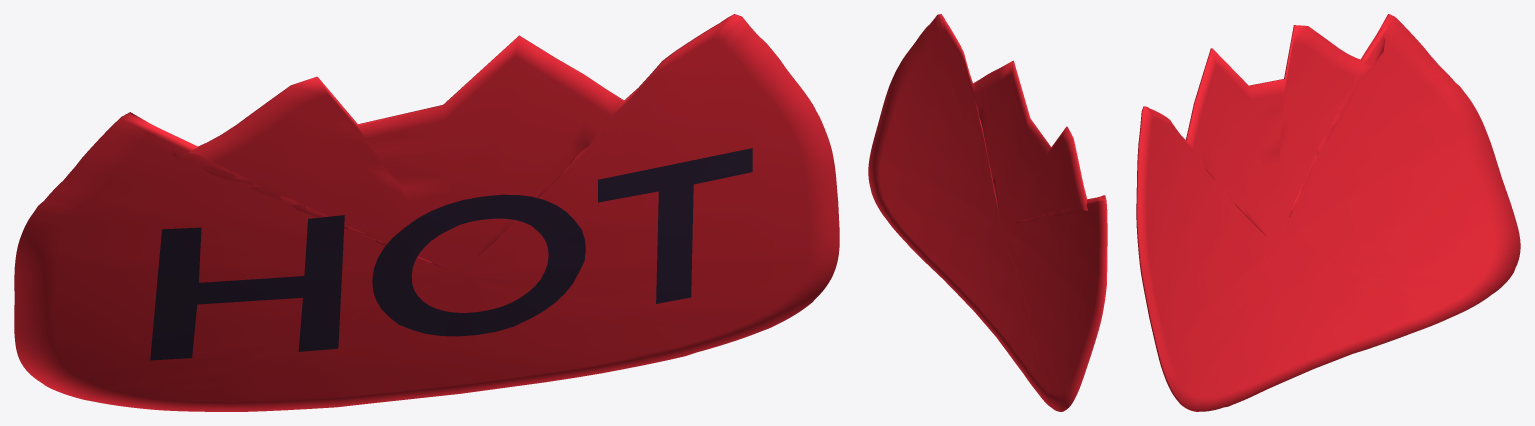
Rendered from Masculine-details-extra.glb.
3 views of the same model, side by side, from view 1: azimuth 30°, elevation 25°; view 2: azimuth 150°, elevation 25°; view 3: azimuth 270°, elevation 25° (orthographic). The views are drawn at different scales.
Visible parts, largest first — view 1: HOT / original flame silhouette212, HOT / original compact letters212; view 2: HOT / original flame silhouette212; view 3: HOT / original flame silhouette212.
Part boxes in pixels (x1,y1,x2,y2): HOT / original flame silhouette212: (14,14,839,411); HOT / original compact letters212: (150,148,752,360); HOT / original flame silhouette212: (868,14,1107,411); HOT / original flame silhouette212: (1136,14,1520,411).
Bounding box in the file's own units: 0.192 × 0.133 × 0.131.
